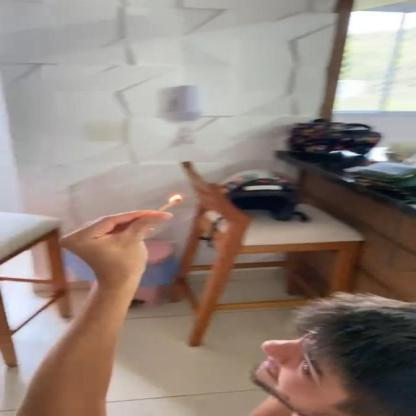fire: (168, 191, 183, 207)
